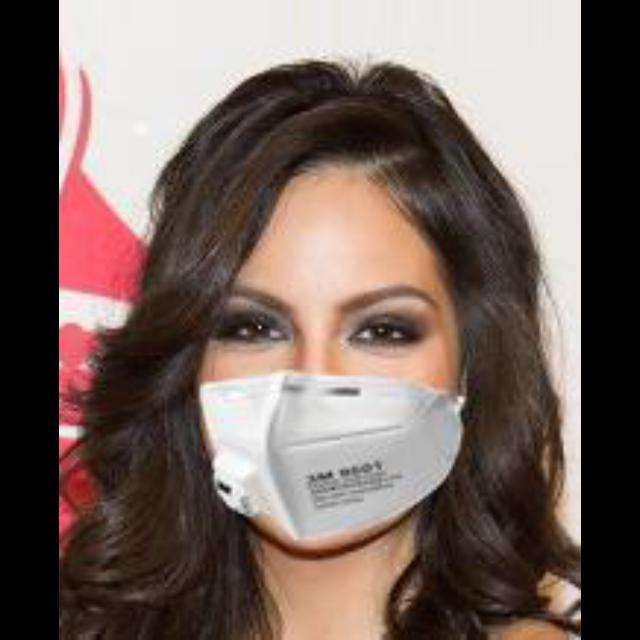suspicion: (133, 106, 532, 572)
